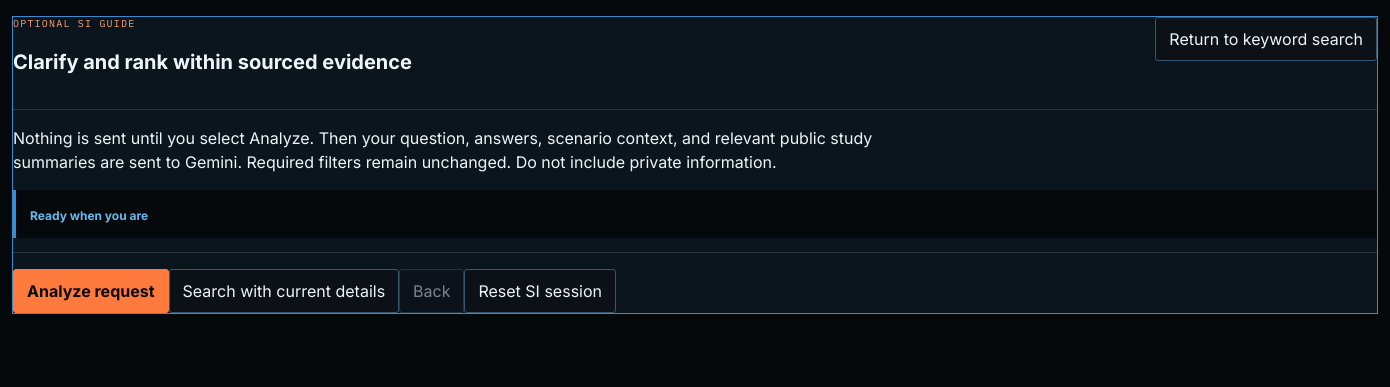
retrieval outage is distinguished from missing Gemini configuration
Later steps or results of the test are not shown.
Click the button "Analyze request": (91, 291) [13,269,168,313]
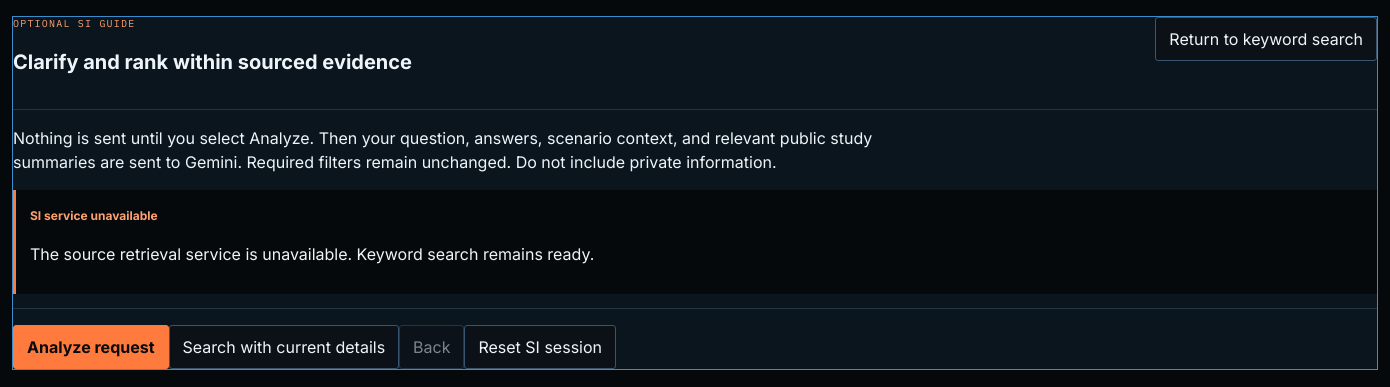
Check: the button "Return to keyword search" is shown, box [1155,17,1377,61]
Check: the text "source retrieval service is unavailable" is shown, box [30,244,594,264]
